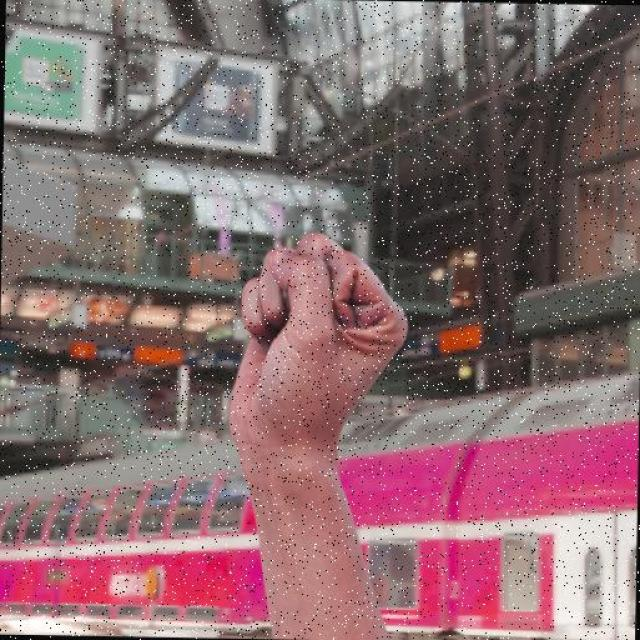S: (224, 223, 411, 453)
